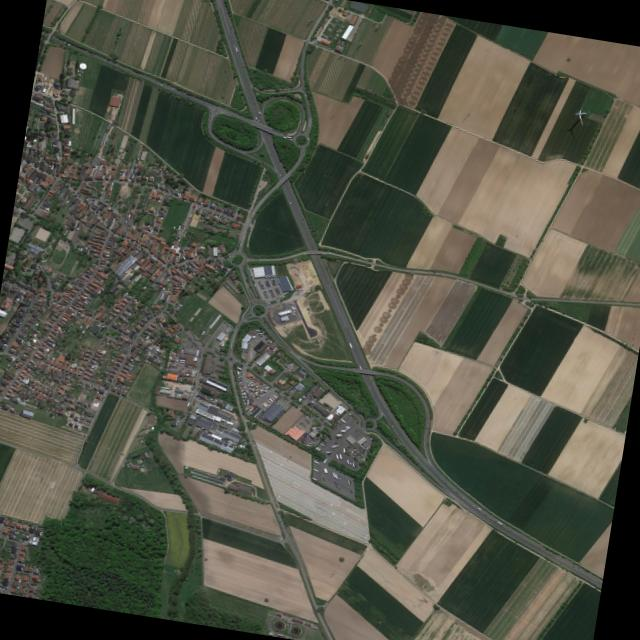storage-tank: (272, 619, 287, 633), (289, 625, 304, 637)
